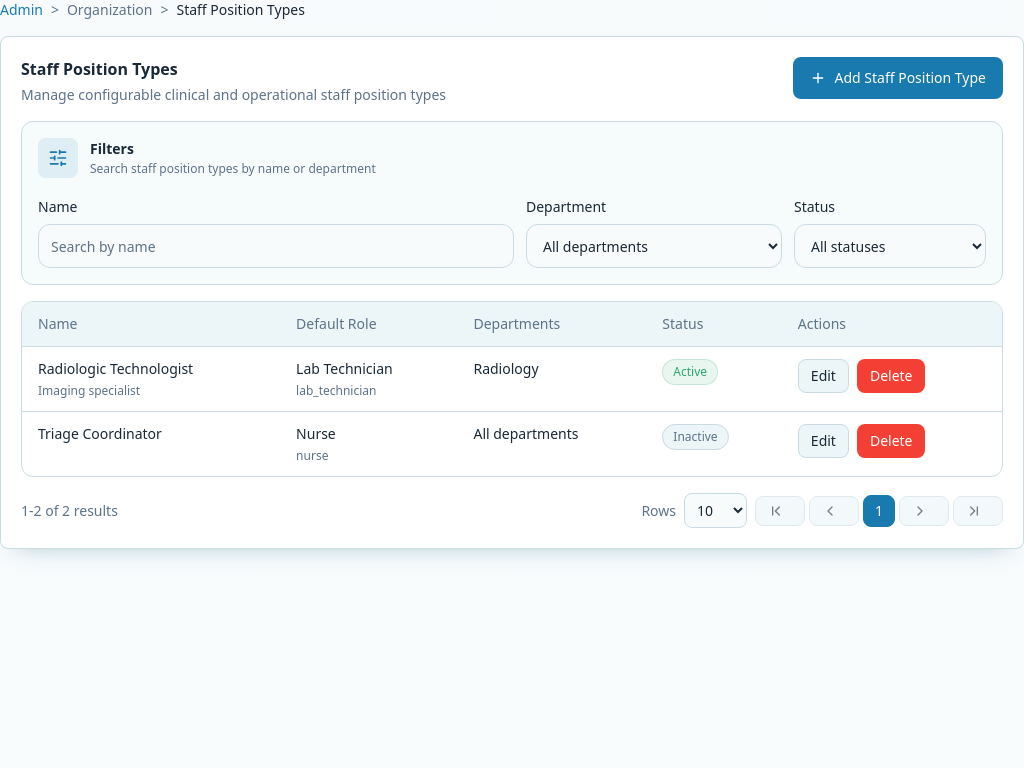
Test: StaffPositionTypesPage › creates a staff position type
The width and height of the screenshot is (1024, 768).
expect the text "Radiologic Technologist" is shown: met, box [38,359,193,378]
Click the button "Add Staff Position Type". click: [898, 78]
box: [794,57,1003,99]
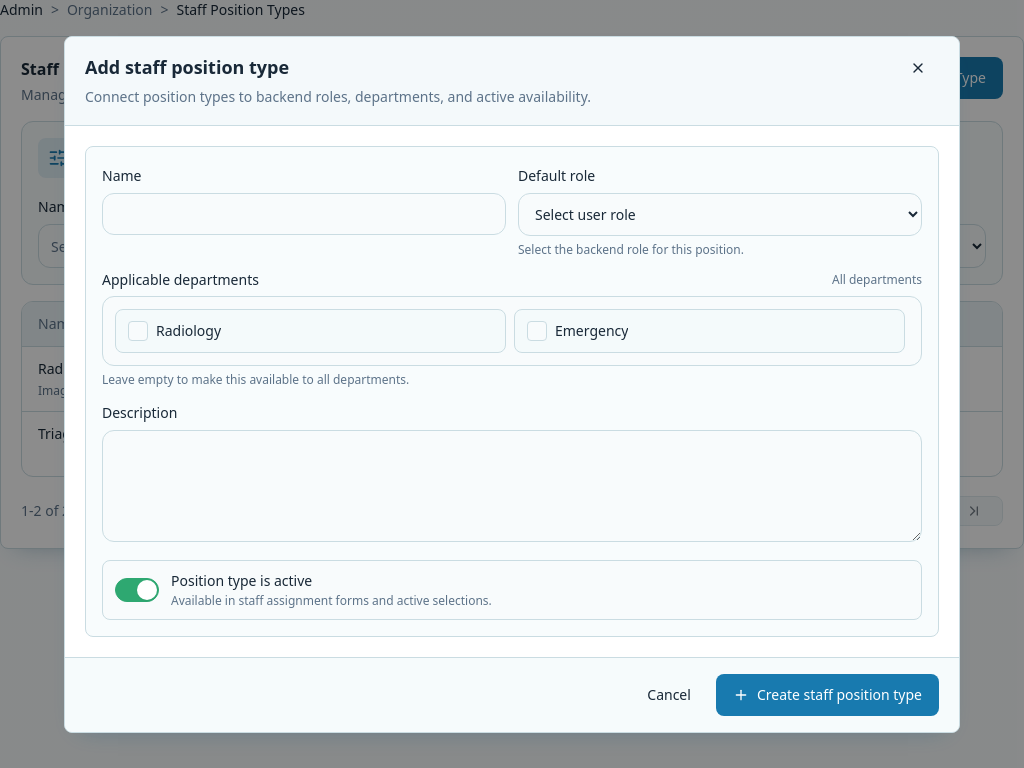
Type "ER Nurse" into the field with id "staff-position-type-name". click: [304, 214]
box: [102,192,506,234]
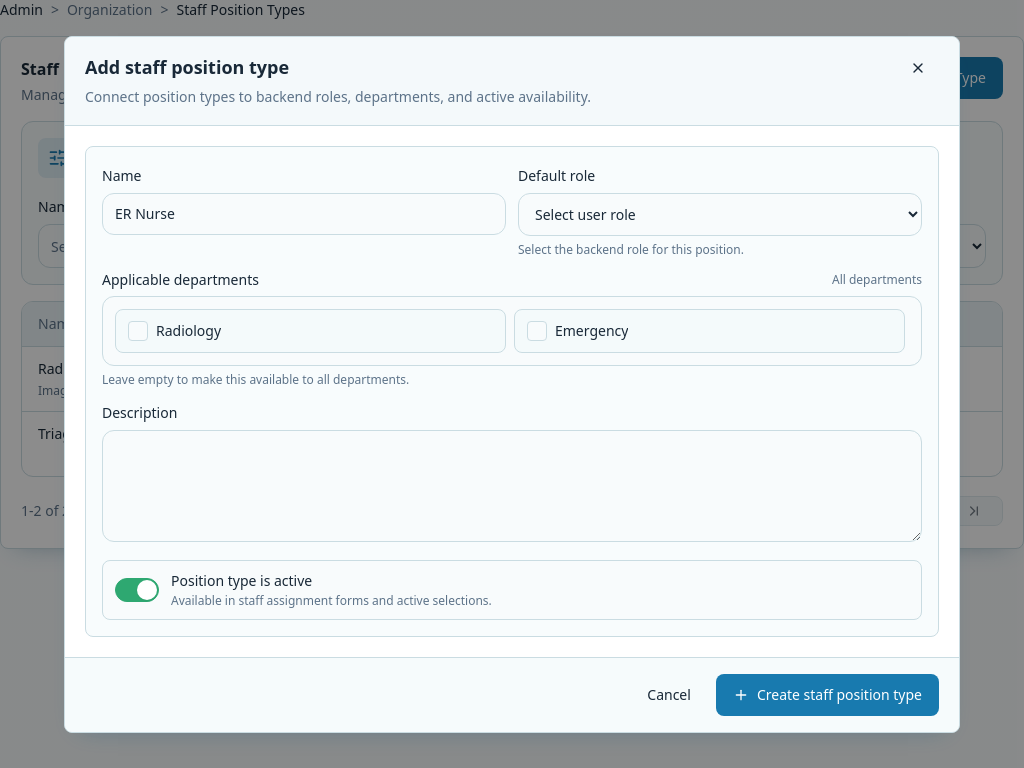
Select "Nurse" in the dropdown with id "staff-position-type-default-role-key". click: [720, 214]
box: [518,192,922,236]
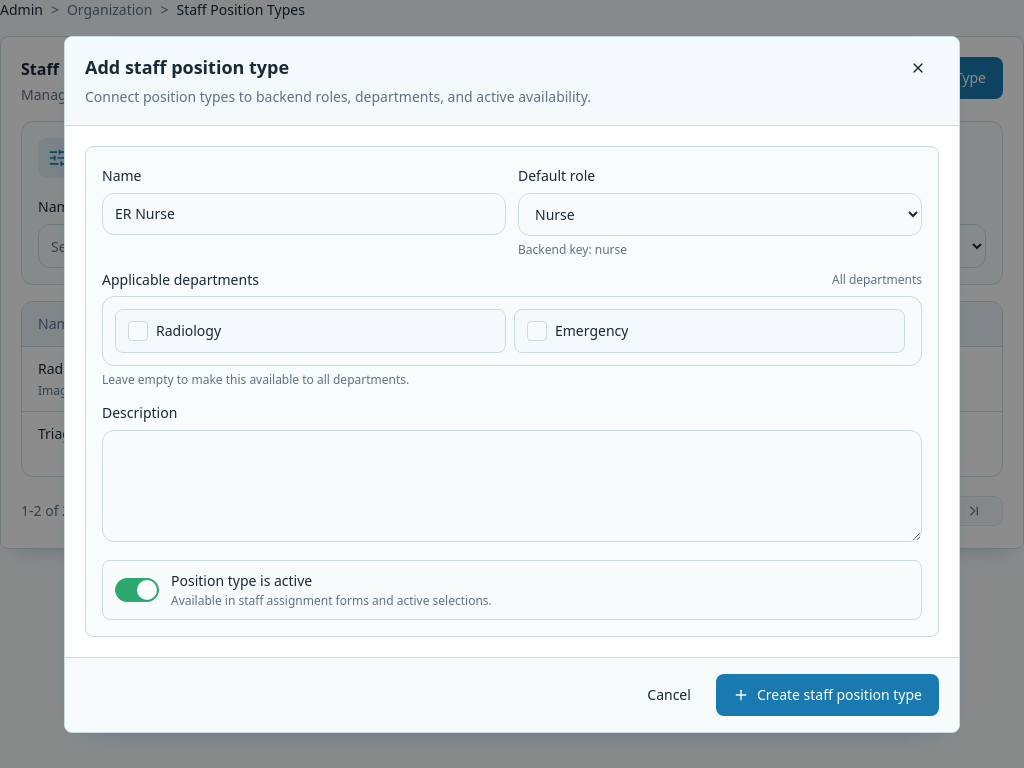
Type "Emergency intake support" into the text box with id "staff-position-type-description". click: [512, 486]
box: [102,430,922,542]
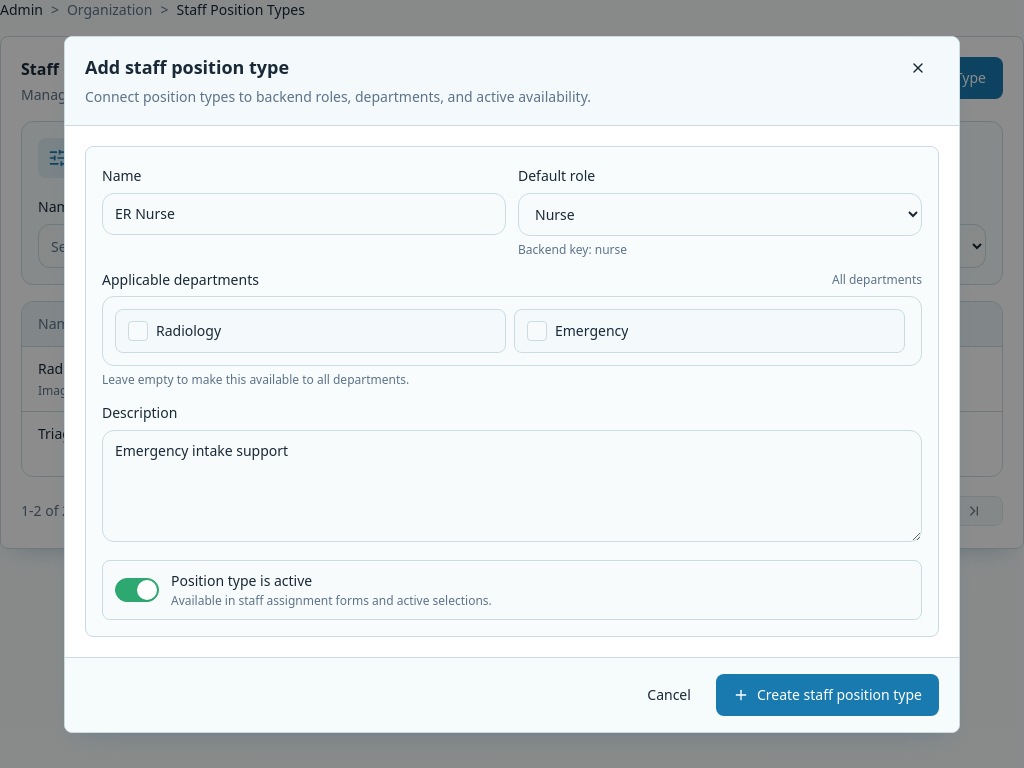
Click the button "Emergency". click: [592, 330]
box: [514,308,905,352]
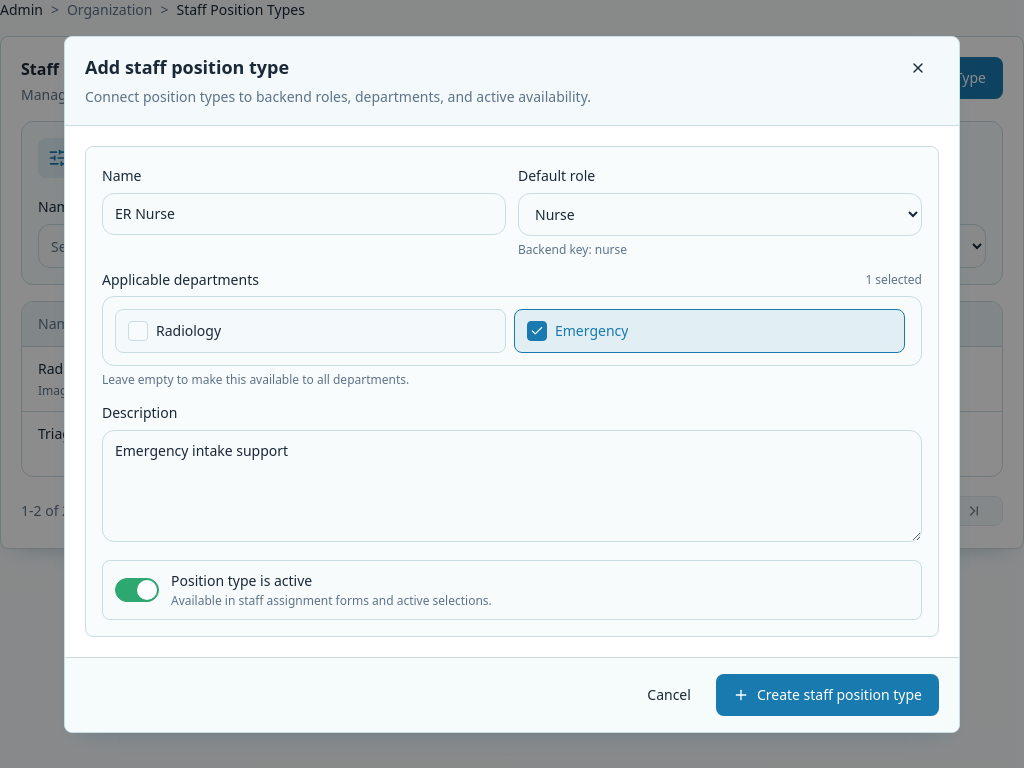
Click the button "Create staff position type". click: [827, 694]
box: [716,674,939,716]
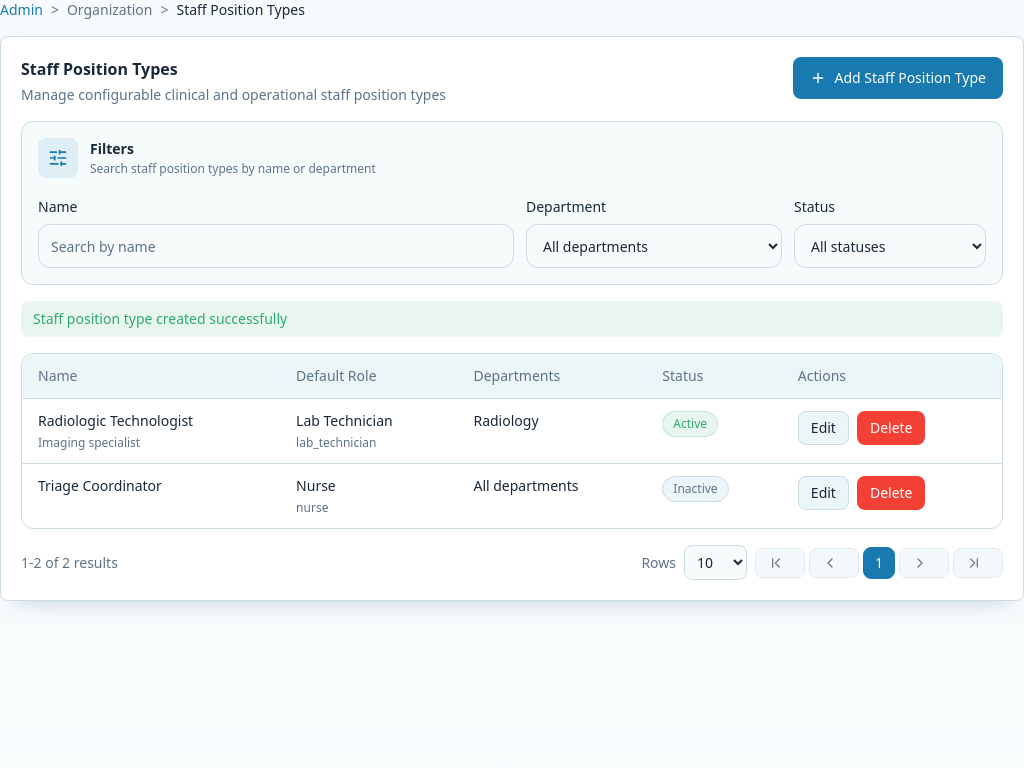
expect the text "Staff position type created successfully" is shown: met, box [21,301,1003,337]
